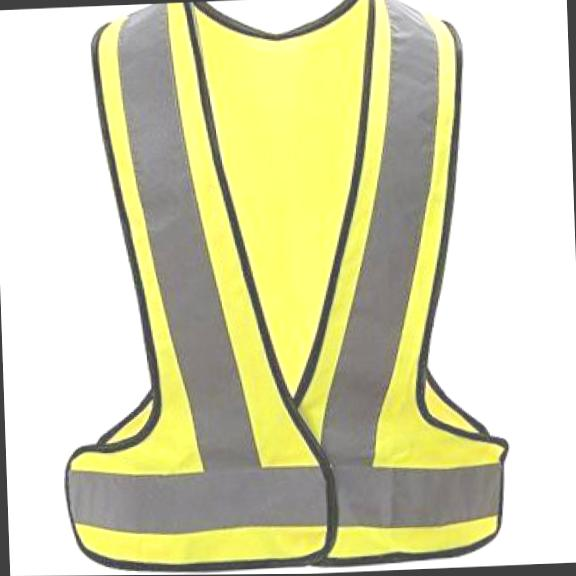safety_vest: (46, 0, 518, 576)
